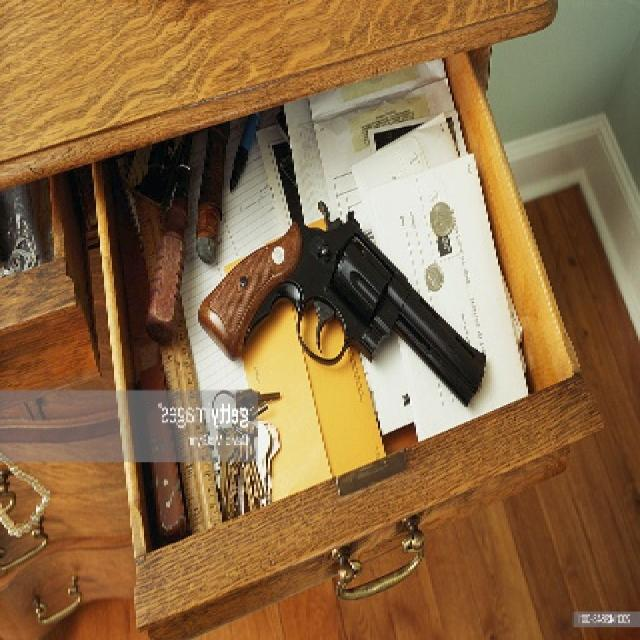handgun: (197, 202, 491, 407)
